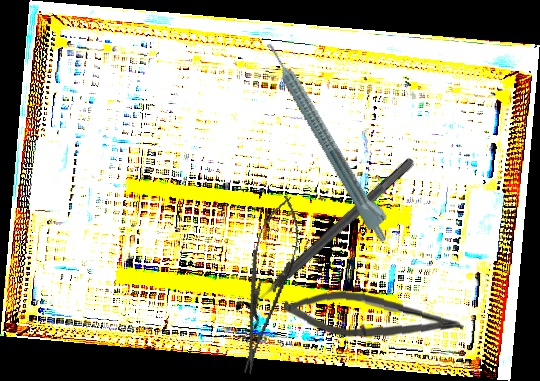Fixation Ring: (231, 147, 425, 332)
Handpiece: (261, 34, 400, 246)
Micro Scissor: (282, 287, 466, 343)
Needle Holder: (226, 191, 308, 379)
